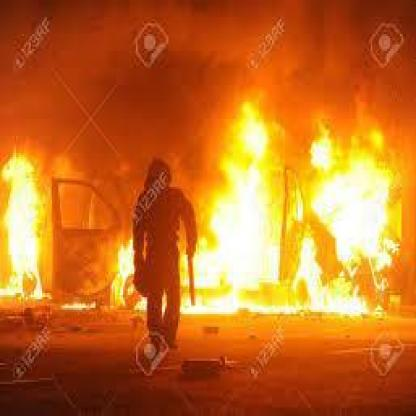fire: (175, 86, 403, 317), (0, 145, 53, 298), (112, 236, 148, 313), (59, 297, 95, 308), (159, 288, 167, 315)
